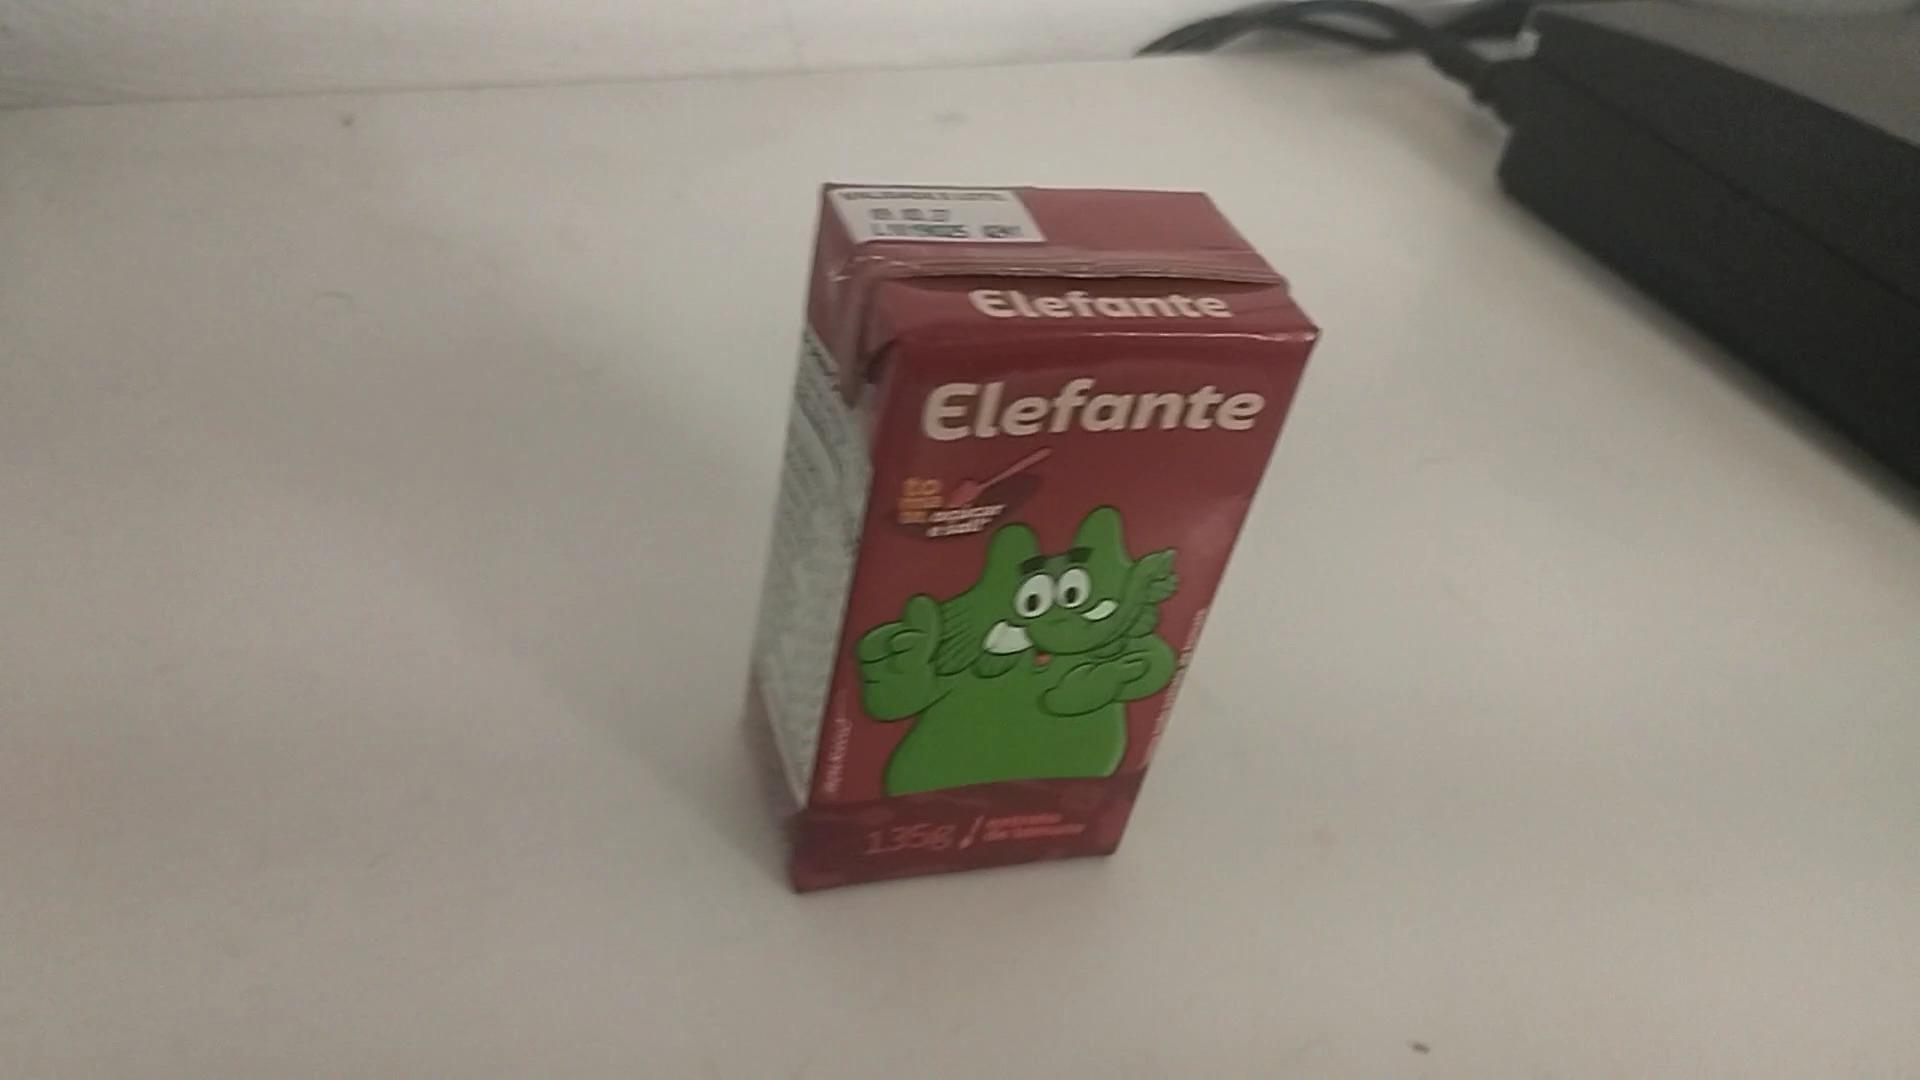tomate: (754, 185, 1325, 894)
